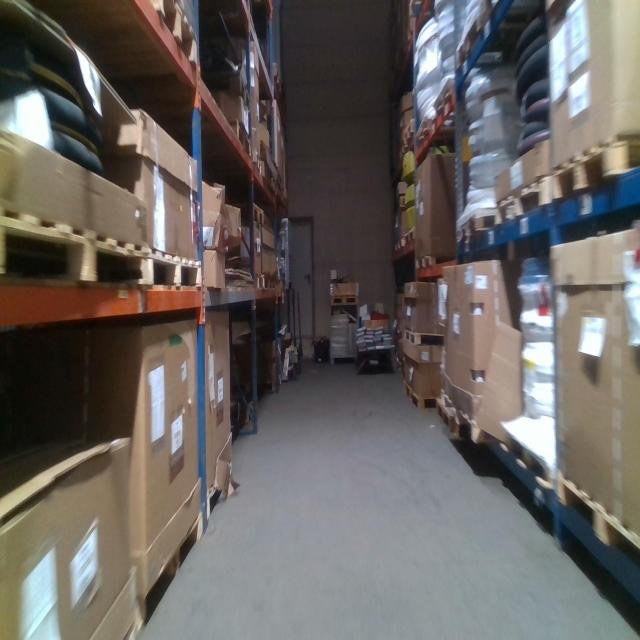pallet: (2, 206, 145, 298), (139, 508, 204, 633), (556, 469, 639, 562), (551, 132, 639, 206), (497, 423, 555, 504), (500, 173, 550, 231), (412, 87, 455, 151), (157, 1, 199, 66), (143, 247, 203, 291), (202, 460, 230, 532), (454, 411, 494, 450), (456, 206, 498, 241), (402, 381, 446, 411), (436, 392, 462, 436), (223, 114, 247, 155), (404, 330, 446, 349), (399, 118, 414, 157), (249, 199, 268, 223), (328, 297, 360, 311), (412, 256, 439, 272), (402, 226, 418, 245)
